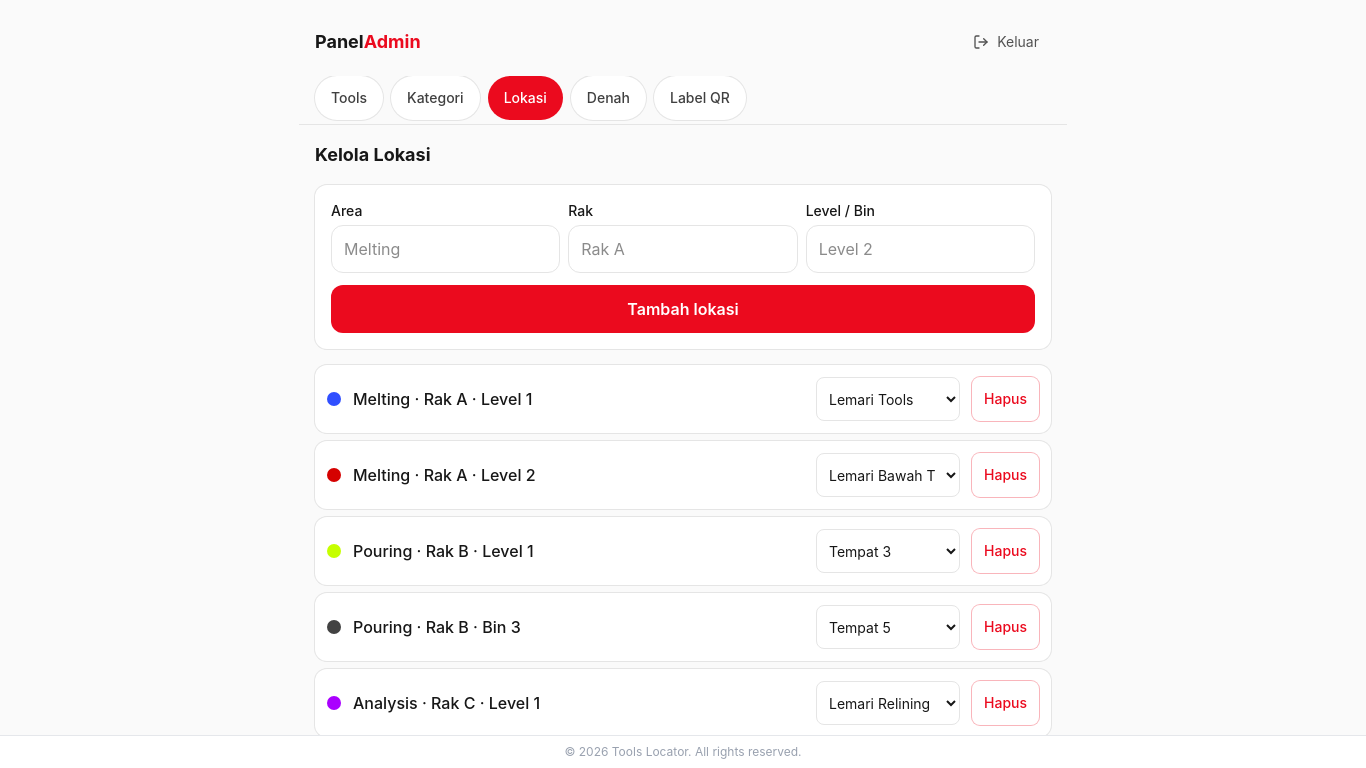
Test: menambah lokasi baru
Expected: the text "Melting · Rak A · Level 1" is shown, [353, 389, 532, 409]
Type "Finishing" into the field labelled "Area" at (446, 249), box [331, 225, 560, 273]
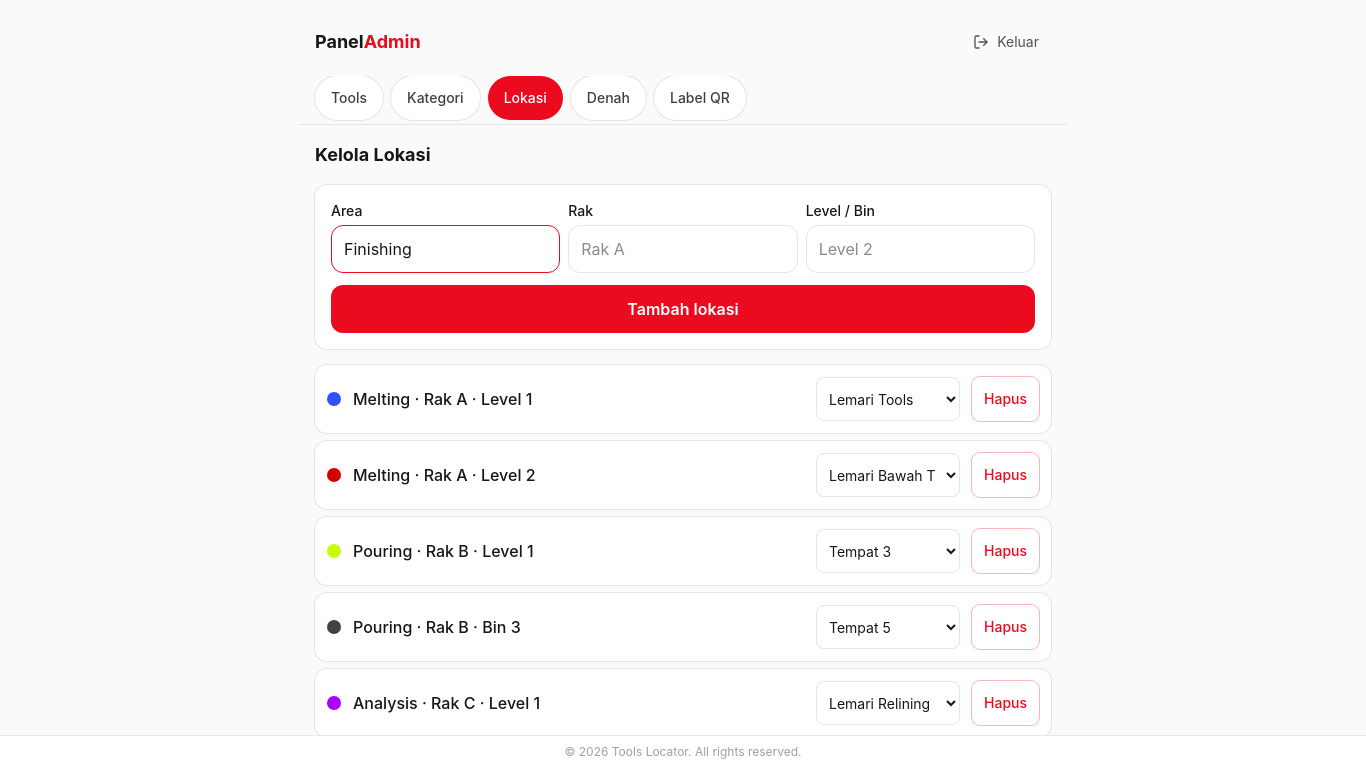
Type "Rak D" into the field labelled "Rak" at (683, 249), box [568, 225, 798, 273]
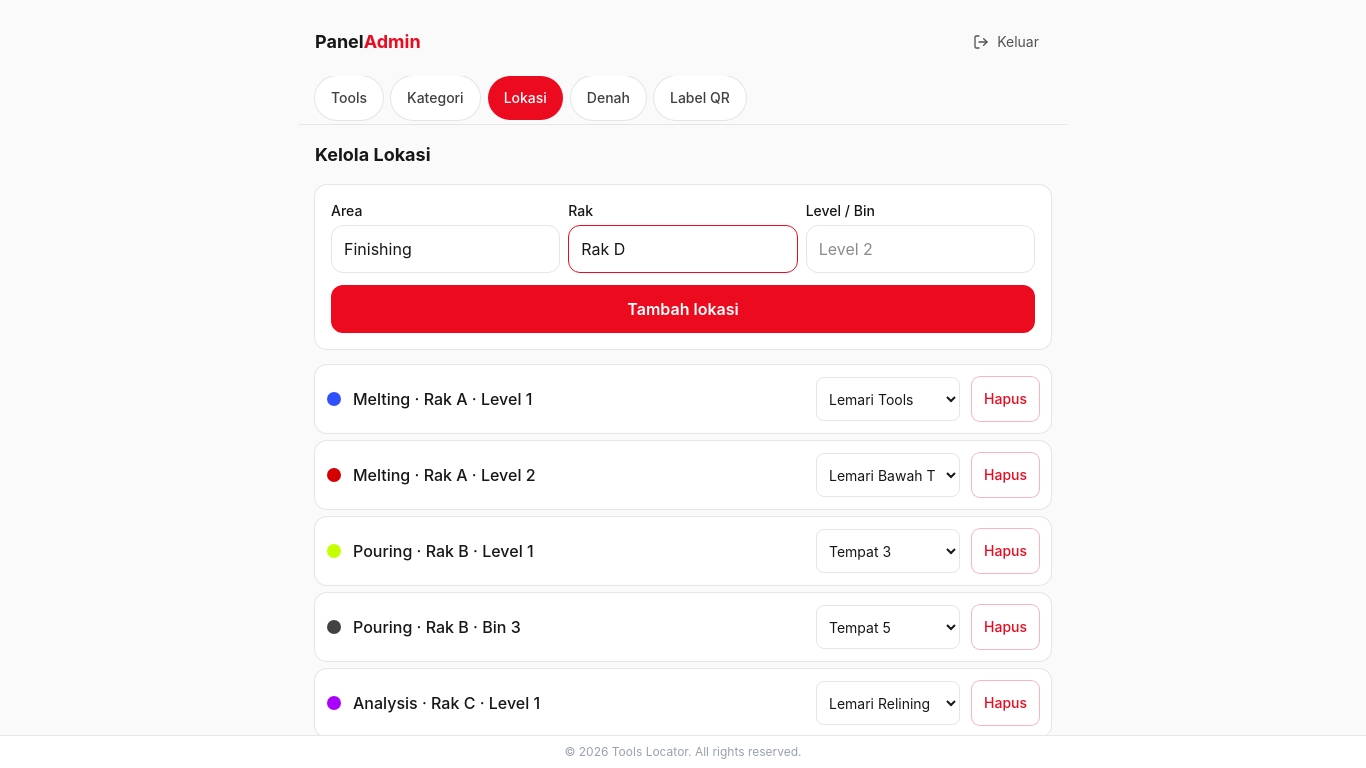
Type "Level 1" into the field labelled "Level / Bin" at (920, 249), box [806, 225, 1035, 273]
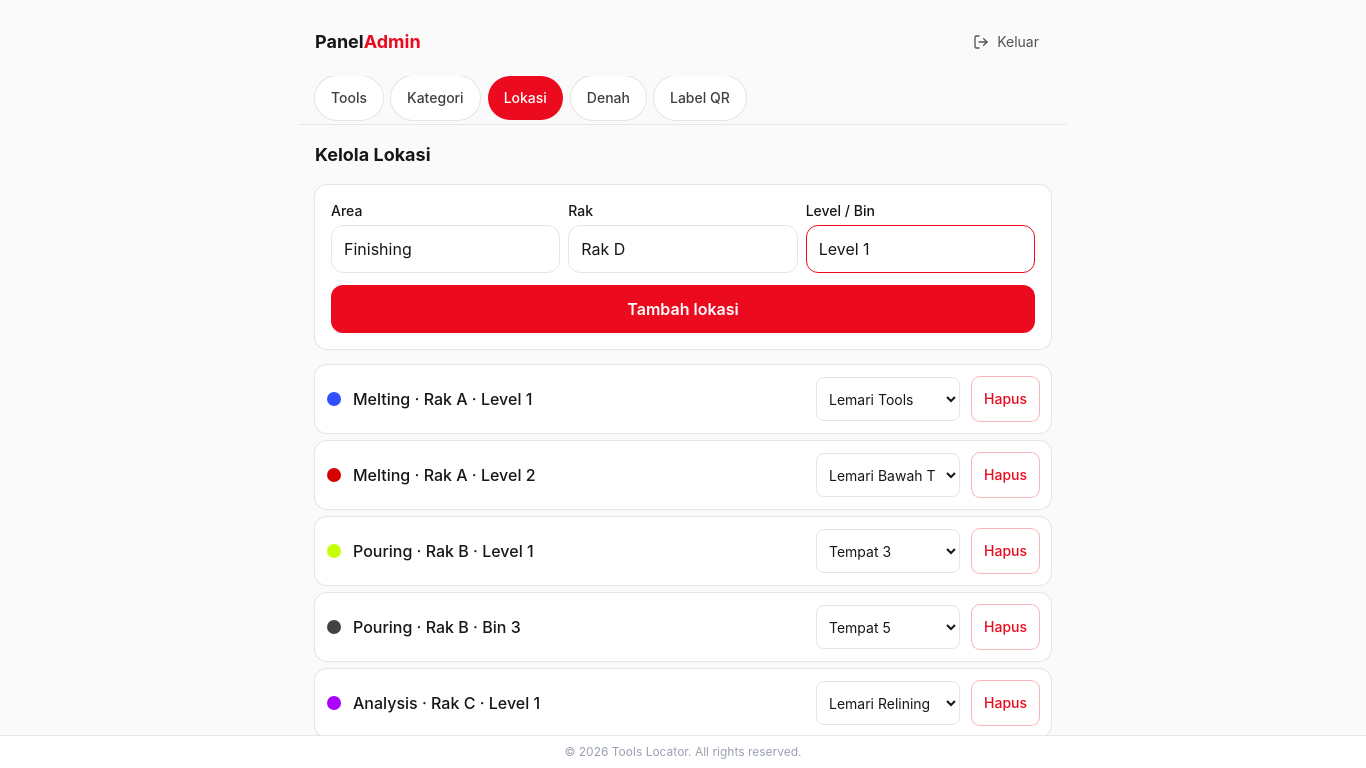
Click the button "Tambah lokasi" at (683, 309), box [331, 285, 1035, 333]
(page scrolled)
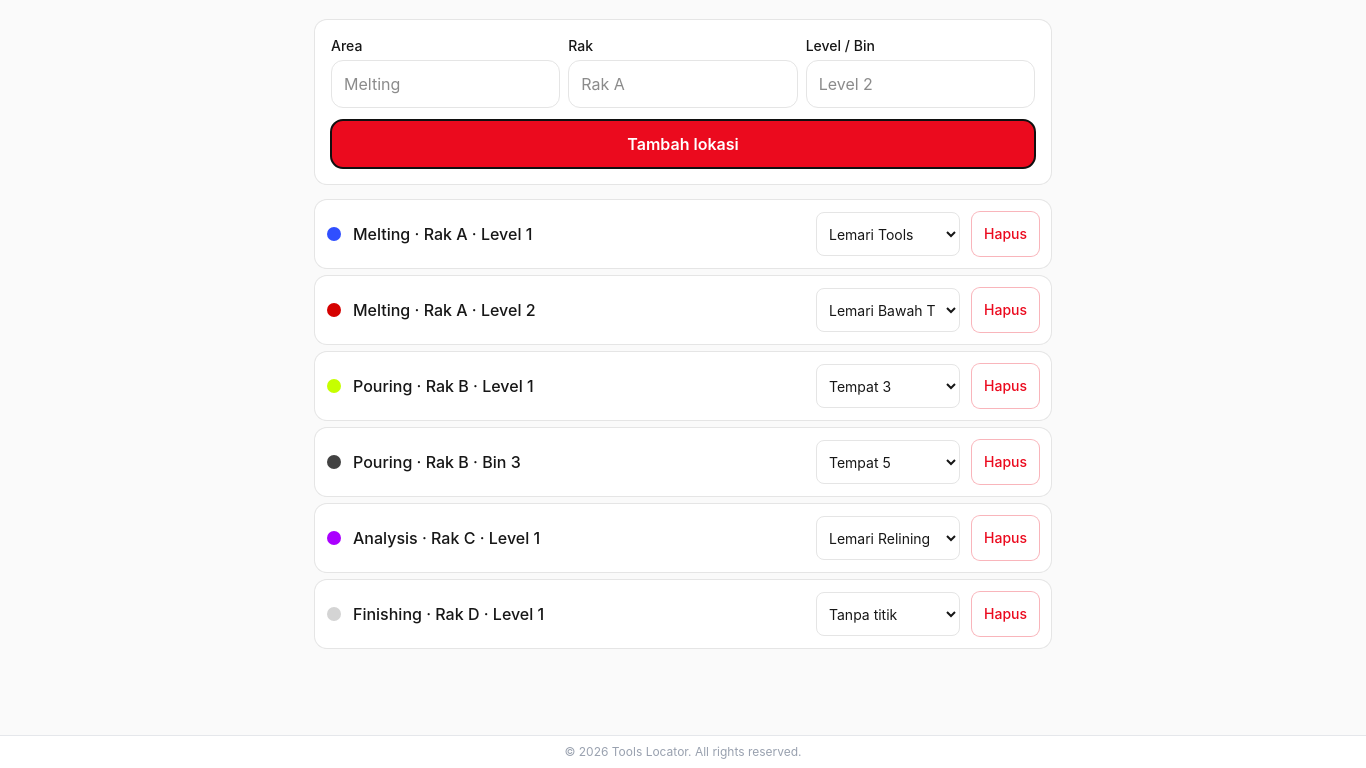
Expected: the text "Finishing · Rak D · Level 1" is shown, [353, 604, 544, 624]
